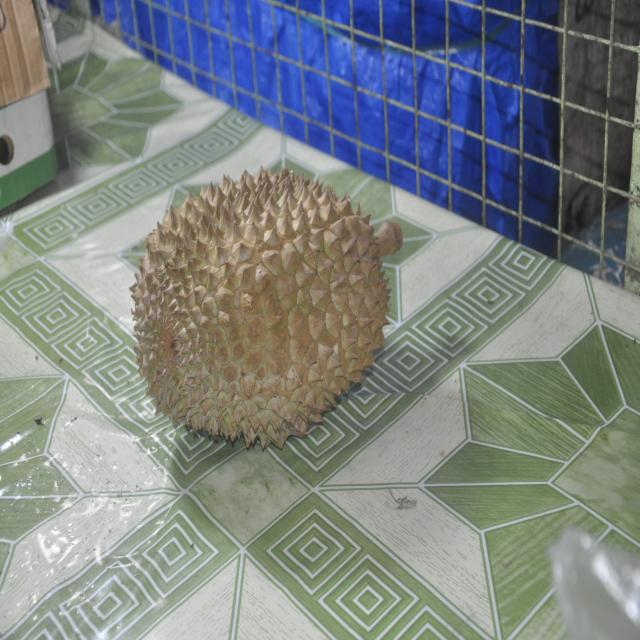mature: (131, 169, 402, 448)
